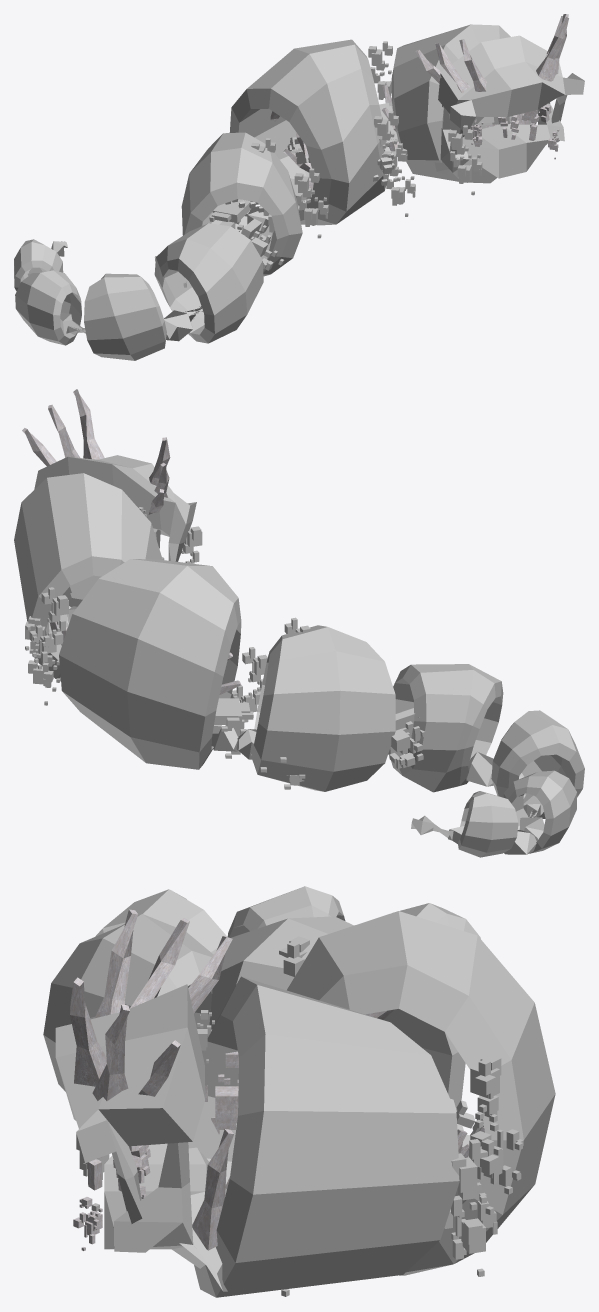
File: CubeDragonBody.fbx
The picture shows the model from 3 angles, top to bottom: view 1: azimuth 30°, elevation 25°; view 2: azimuth 150°, elevation 25°; view 3: azimuth 270°, elevation 25°; orthographic projection. The views are drawn at different scales.
Parts seen in each view (by area): view 1: pPipe2, pPipe4, pPipe3, pCube334, pPipe1, pPipe5, pCube333, pPipe6, pPipe7, pCube380, pCube463, pCube464 (+7 smaller); view 2: pPipe2, pPipe3, pPipe1, pPipe4, pPipe5, pCube334, pPipe6, pPipe7, pCube381, pCube459, pCube475, pCube472 (+6 smaller); view 3: pPipe1, pPipe2, pCube334, pCube333, pPipe4, pPipe3, pCube381, pCube380, pCube459, pCube460, pPipe6, pPipe5 (+6 smaller).
Boxes of the visible parts, x1=… form: pPipe2: x1=229, y1=39, x2=389, y2=225; pPipe4: x1=154, y1=223, x2=263, y2=343; pPipe3: x1=181, y1=132, x2=302, y2=276; pCube334: x1=438, y1=35, x2=584, y2=154; pPipe1: x1=391, y1=24, x2=531, y2=183; pPipe5: x1=84, y1=273, x2=166, y2=360; pCube333: x1=434, y1=102, x2=564, y2=178; pPipe6: x1=15, y1=270, x2=81, y2=345; pPipe7: x1=14, y1=239, x2=63, y2=291; pCube380: x1=415, y1=39, x2=486, y2=93; pCube463: x1=448, y1=125, x2=482, y2=195; pCube464: x1=294, y1=168, x2=328, y2=238; pPipe2: x1=59, y1=559, x2=241, y2=769; pPipe3: x1=251, y1=625, x2=395, y2=791; pPipe1: x1=14, y1=473, x2=162, y2=678; pPipe4: x1=391, y1=664, x2=503, y2=792; pPipe5: x1=491, y1=710, x2=584, y2=818; pCube334: x1=34, y1=455, x2=196, y2=561; pPipe6: x1=503, y1=770, x2=577, y2=853; pPipe7: x1=458, y1=791, x2=518, y2=857; pCube381: x1=22, y1=389, x2=104, y2=466; pCube459: x1=25, y1=587, x2=68, y2=669; pCube475: x1=388, y1=708, x2=425, y2=768; pCube472: x1=212, y1=698, x2=253, y2=758; pPipe1: x1=188, y1=976, x2=459, y2=1297; pPipe2: x1=287, y1=911, x2=555, y2=1275; pCube334: x1=55, y1=984, x2=205, y2=1223; pCube333: x1=104, y1=1142, x2=227, y2=1291; pPipe4: x1=43, y1=914, x2=213, y2=1091; pPipe3: x1=208, y1=916, x2=465, y2=1111; pCube381: x1=70, y1=977, x2=180, y2=1100; pCube380: x1=95, y1=909, x2=232, y2=1018; pCube459: x1=470, y1=1054, x2=523, y2=1214; pCube460: x1=444, y1=1139, x2=497, y2=1276; pPipe6: x1=227, y1=886, x2=345, y2=937; pPipe5: x1=95, y1=889, x2=227, y2=954.
Bounding box in the file's own units: 395 × 189 × 172.
